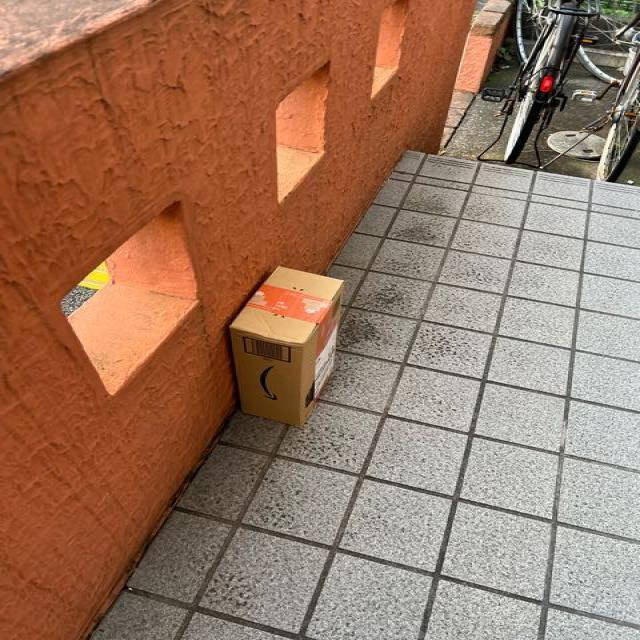-: (220, 259, 360, 427)
